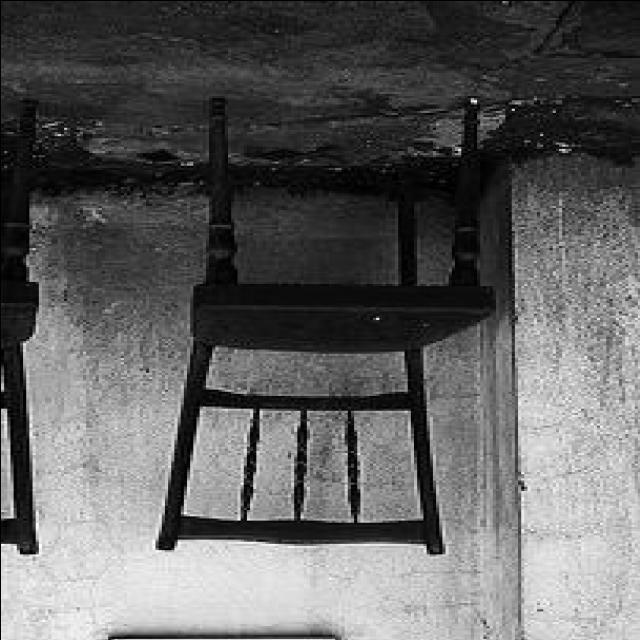chair: (153, 92, 499, 554)
